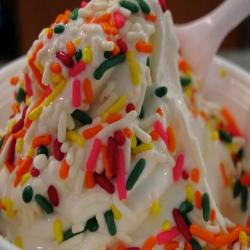icecream: (21, 13, 193, 238)
